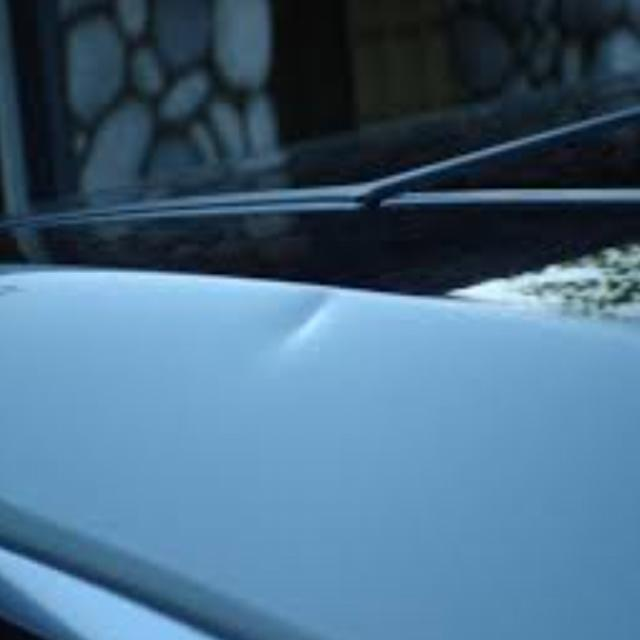dents: (262, 279, 353, 390)
